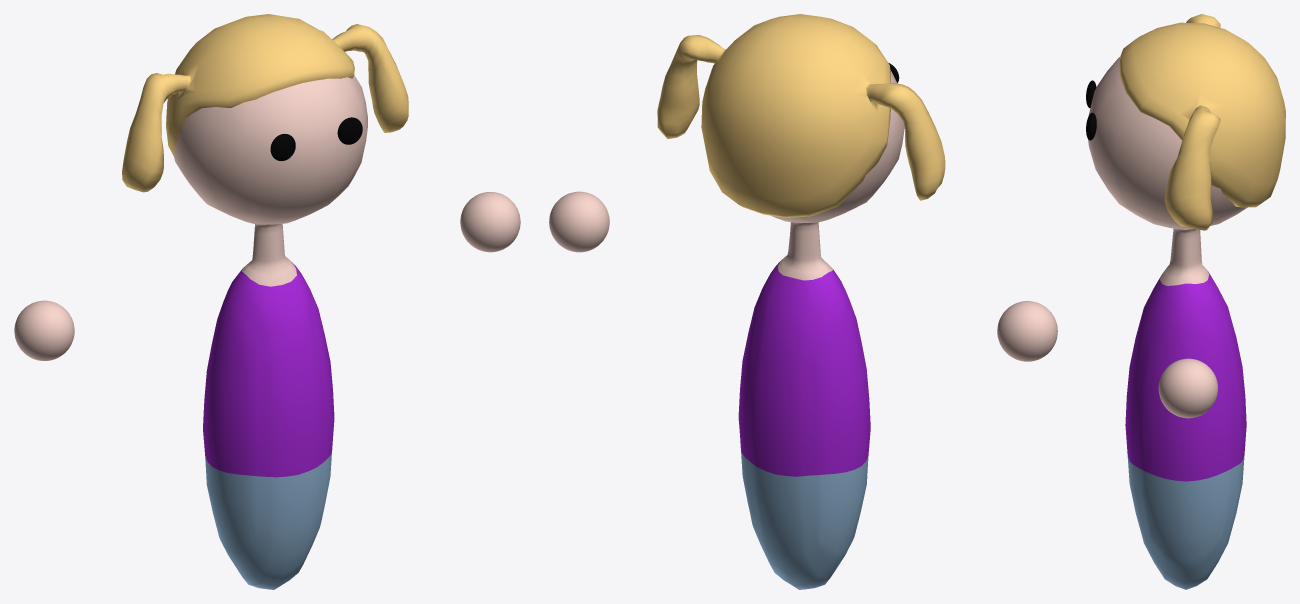
Rendered from BoiseSchoolsGirlChild(LowPolly).fbx.
3 renders of one model, left to right at view 1: azimuth 30°, elevation 25°; view 2: azimuth 150°, elevation 25°; view 3: azimuth 270°, elevation 25°, orthographic.
Visible parts, largest first — view 1: Roundcube; view 2: Roundcube; view 3: Roundcube.
Boxes of the visible parts, x1=… form: Roundcube: x1=14, y1=14, x2=520, y2=589; Roundcube: x1=549, y1=14, x2=1057, y2=589; Roundcube: x1=1086, y1=14, x2=1285, y2=589.
Size of the model in its own units: 281 by 304 by 99.08.
1 material, 1 textured.
